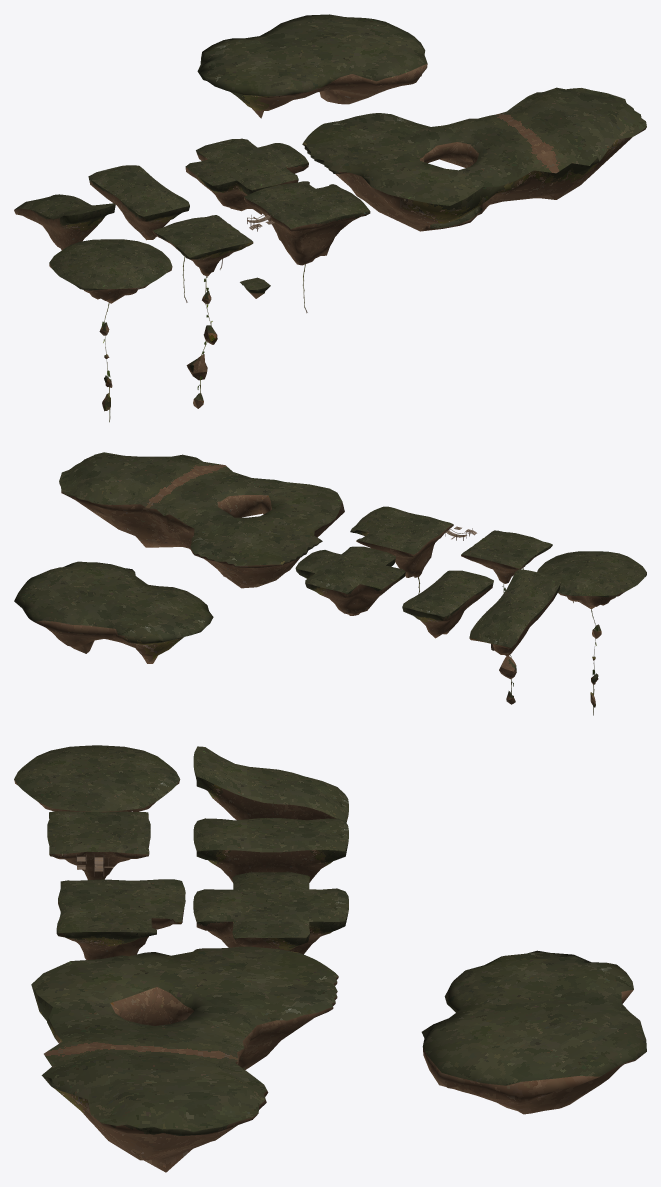
Rendered from FloatingIsland.glb.
3 renders of one model, top to bottom at view 1: azimuth 30°, elevation 25°; view 2: azimuth 150°, elevation 25°; view 3: azimuth 270°, elevation 25°, orthographic. The views are drawn at different scales.
Visible parts, largest first — view 1: Island2Hole, Island1, L, X, Round, Long, Flat, Ramp; view 2: Island2Hole, Island1, X, Round, Ramp, L, Long, Flat; view 3: Island2Hole, Island1, X, Round, L, Long, Ramp, Flat.
Part boxes in pixels (x1,y1,x2,y2): Island2Hole: (302,87,646,231); Island1: (197,14,427,118); L: (244,181,370,265); X: (185,138,308,214); Round: (49,239,172,303); Long: (88,165,189,240); Flat: (152,215,253,276); Ramp: (14,194,115,250); Island2Hole: (59,452,344,588); Island1: (14,561,213,663); X: (295,546,405,615); Round: (537,551,646,608); Ramp: (469,569,561,656); L: (350,506,453,577); Long: (402,570,493,638); Flat: (461,530,552,583); Island2Hole: (31,946,338,1172); Island1: (421,950,646,1114); X: (193,872,348,954); Round: (14,745,180,812); L: (56,879,185,959); Long: (193,818,348,882); Ramp: (193,746,348,822); Flat: (47,811,150,879).
Bounding box in the file's own units: 194 × 58.02 × 132.
3 materials, 3 textured.
